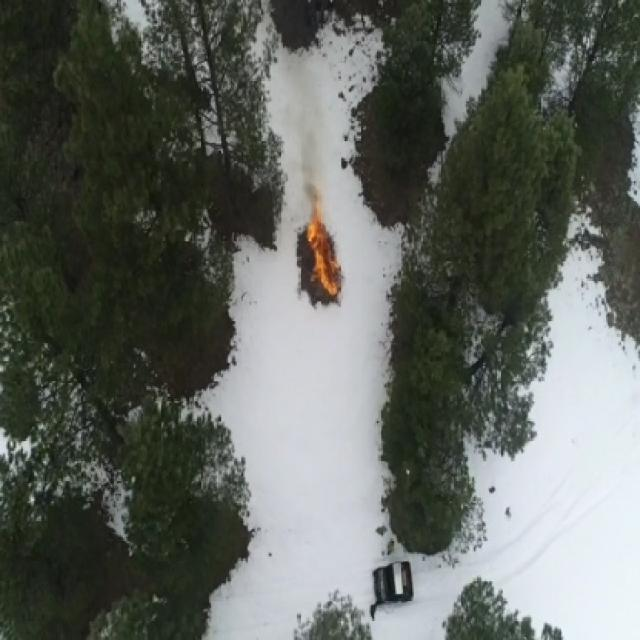Fire: (304, 191, 342, 298)
